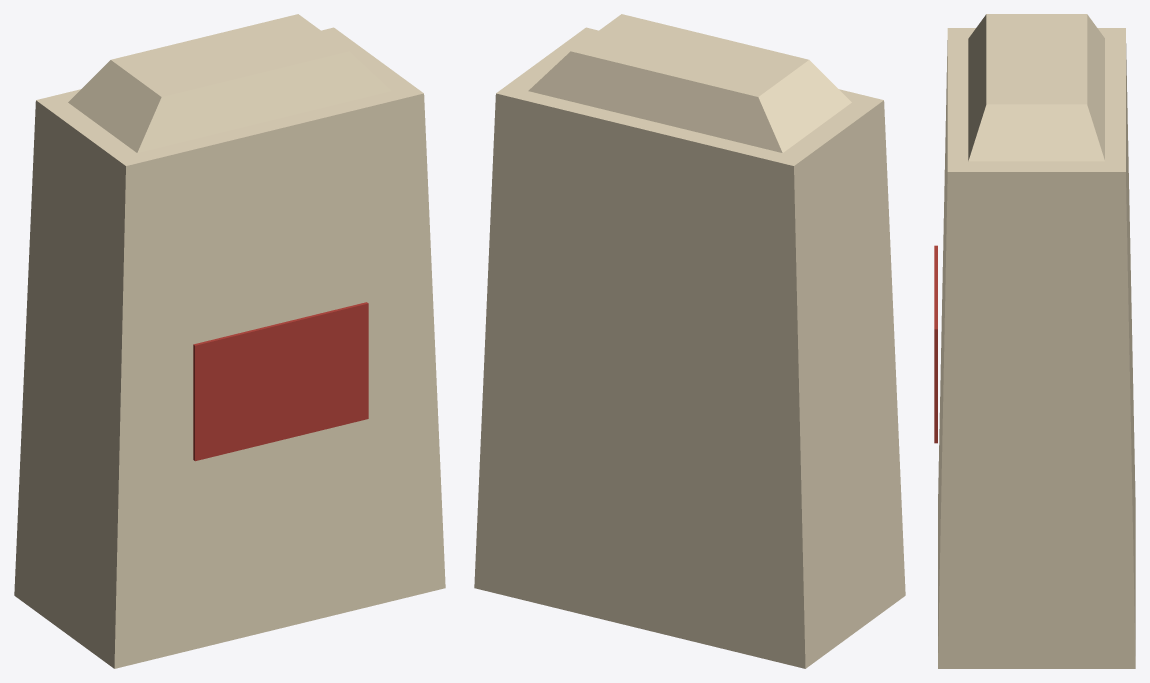
File: GT_FeedSack_01.glb
The picture shows the model from 3 angles, left to right: view 1: azimuth 30°, elevation 25°; view 2: azimuth 150°, elevation 25°; view 3: azimuth 270°, elevation 25°; orthographic projection.
Visible parts, largest first — view 1: GT_FeedSack_01; view 2: GT_FeedSack_01; view 3: GT_FeedSack_01.
Part boxes in pixels (box(x1,y1,x2,y2)): GT_FeedSack_01: box(14, 14, 445, 668); GT_FeedSack_01: box(474, 14, 905, 668); GT_FeedSack_01: box(934, 14, 1135, 668).
Bounding box in the file's own units: 0.42 × 0.65 × 0.224.
1 material, 1 textured.
